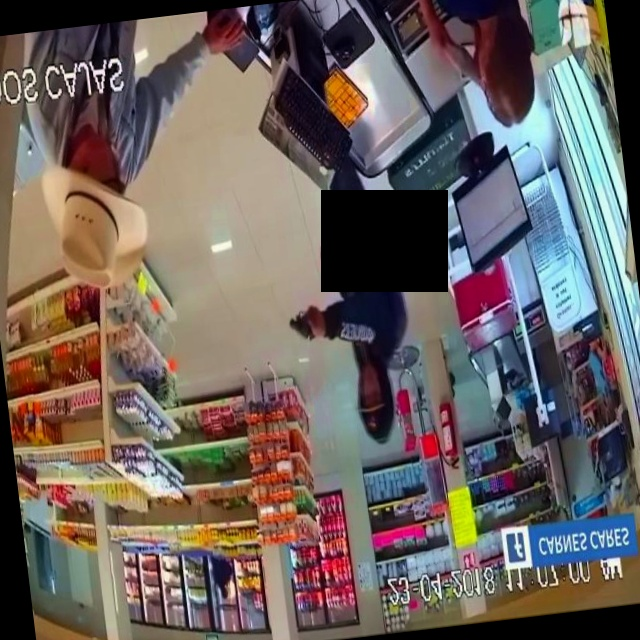gun: (276, 289, 326, 362)
